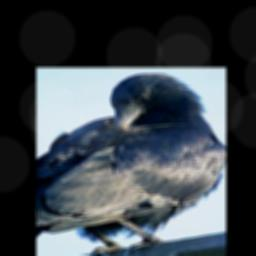Crow: (36, 73, 225, 256)
